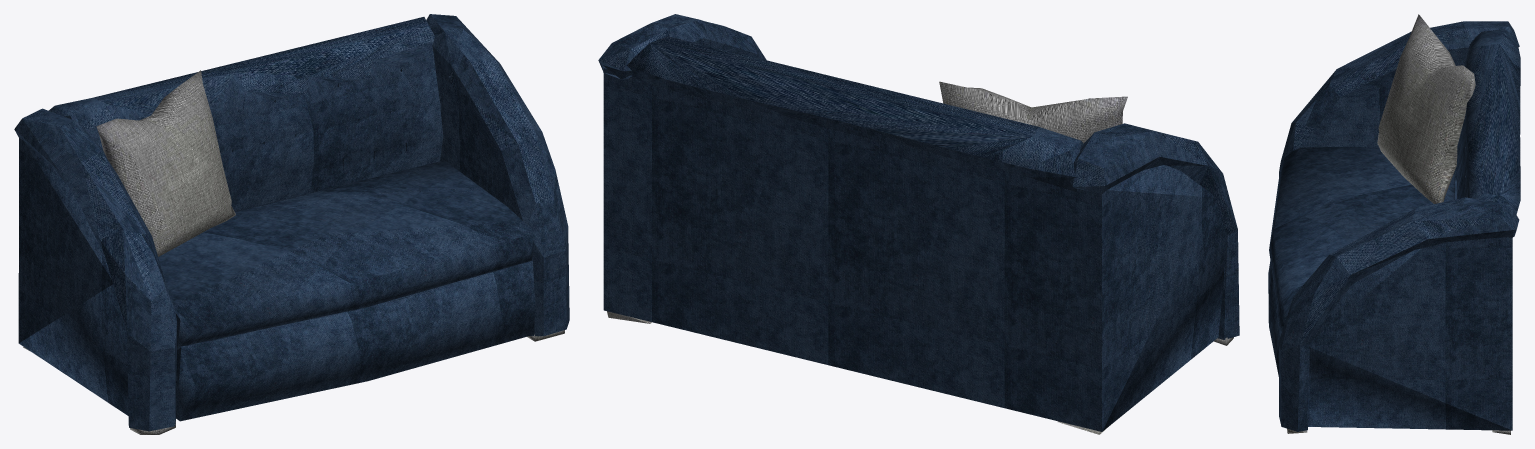
The model's file is round_sofa.dae.
3 renders of one model, left to right at view 1: azimuth 30°, elevation 25°; view 2: azimuth 150°, elevation 25°; view 3: azimuth 270°, elevation 25°, orthographic. The views are drawn at different scales.
Visible parts, largest first — view 1: ROUND SOFA; view 2: ROUND SOFA; view 3: ROUND SOFA.
Part boxes in pixels (<box>): ROUND SOFA: <box>14,14,569,434</box>; ROUND SOFA: <box>598,14,1239,434</box>; ROUND SOFA: <box>1268,14,1520,434</box>.
Bounding box in the file's own units: 1.65 × 0.8703 × 0.9104.
Materials: 2 (2 with a texture image).
